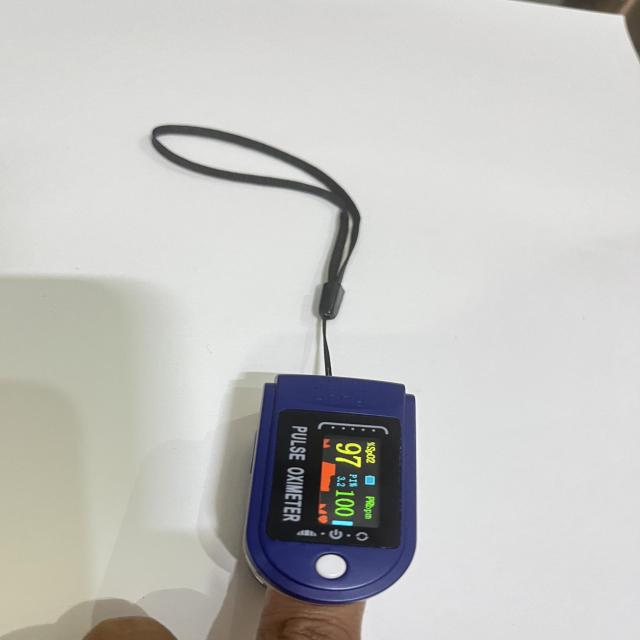spo2: (242, 375, 418, 607)
